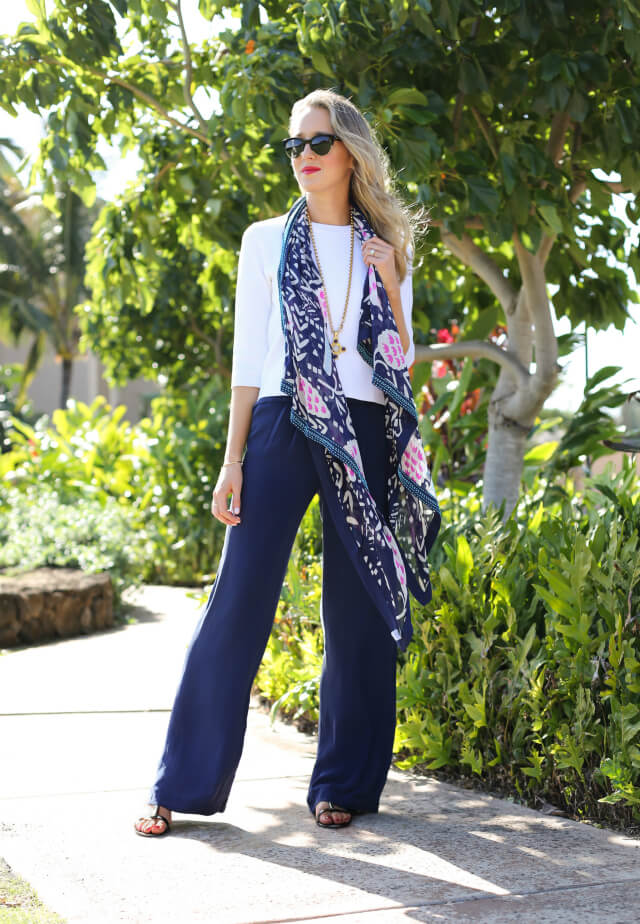F_W_suit jacket: (220, 221, 437, 460)
